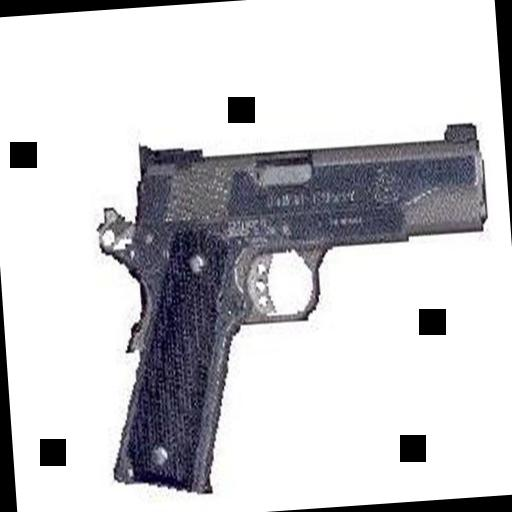Handgun: (86, 119, 507, 492)
